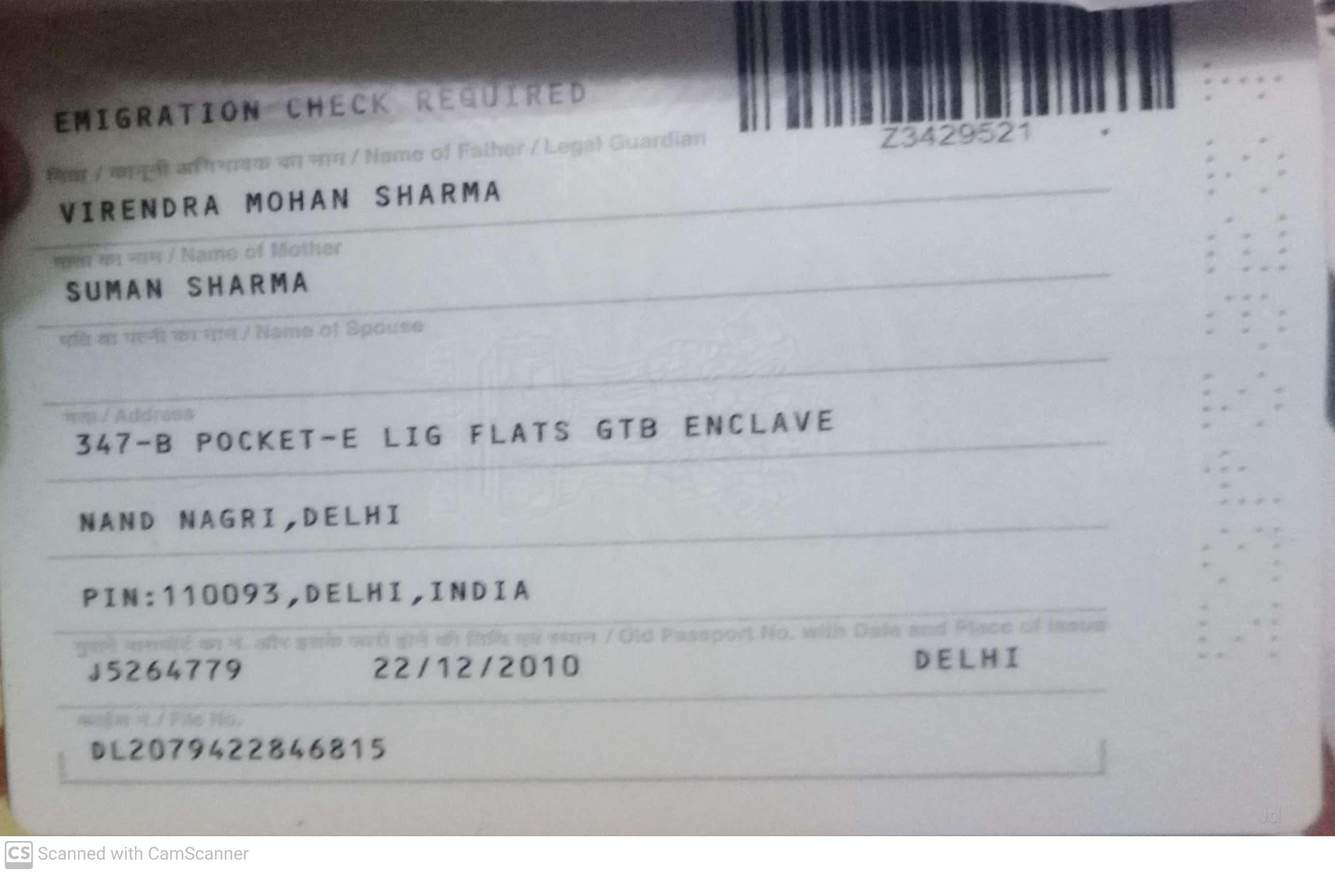File_no: (72, 733, 417, 780)
address: (56, 394, 870, 622)
father_name: (53, 174, 524, 227)
mother_name: (52, 265, 337, 319)
old_passport_details: (47, 641, 1057, 689)
passport_no: (867, 110, 1041, 170)
